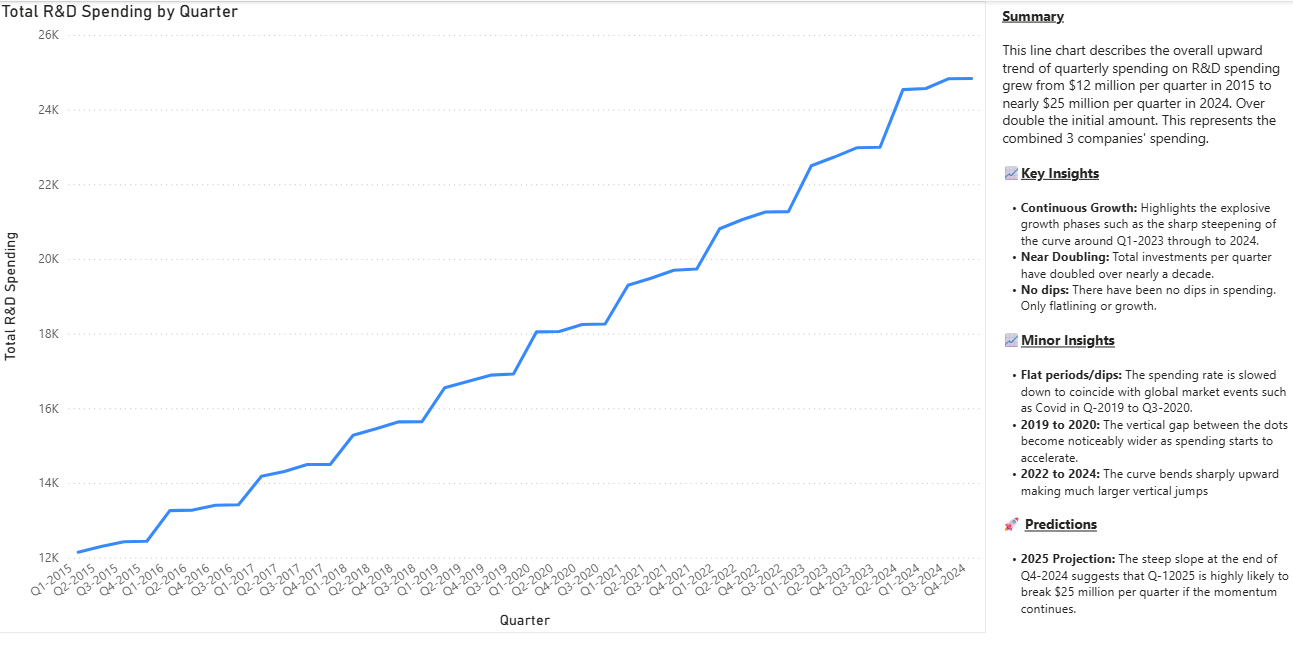

What the dashboard file says about the page in this screenshot:
{"tool":"powerbi","page":{"name":"Total spending","canvas":[1280,720],"ordinal":0},"visuals":[{"type":"lineChart","fields":{"Category":["Calendar.Year"],"Y":["Calendar.Total R&D Spending"]},"box":[9.7,0,962.9,614.7],"z":0},{"type":"textbox","box":[983,0,297,615],"z":1}]}

Visuals, with their boxes on the page's 1280x720 design canvas (x1, y1, x2, y2). These are canvas units, not pixel positions in the 1293x655 screenshot, which may show the page scaled, cropped or inside an application window:
lineChart - Calendar.Year x Calendar.Total R&D Spending: (x1=10, y1=0, x2=973, y2=615)
textbox: (x1=983, y1=0, x2=1280, y2=615)
